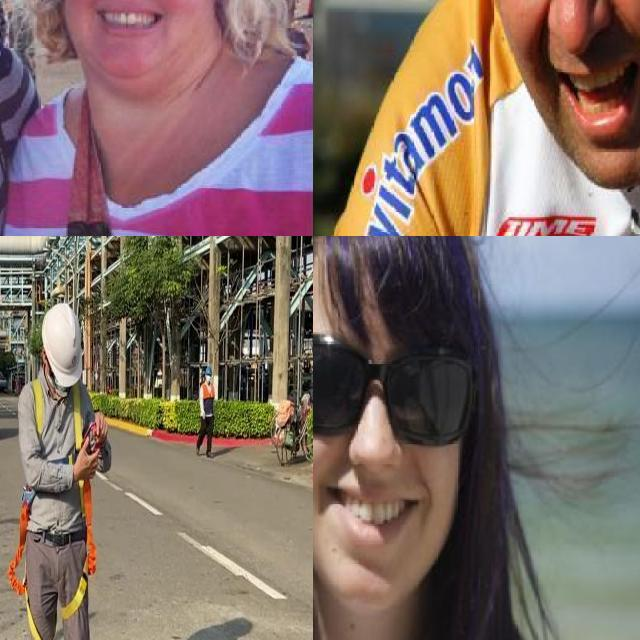Harness: (8, 487, 44, 640), (62, 480, 98, 620)
face_nomask: (313, 328, 458, 554), (482, 0, 640, 137), (62, 0, 194, 40)
glasses: (313, 320, 481, 463)
head_nohelmet: (313, 236, 502, 294)
person: (313, 236, 590, 640), (0, 0, 308, 236)
